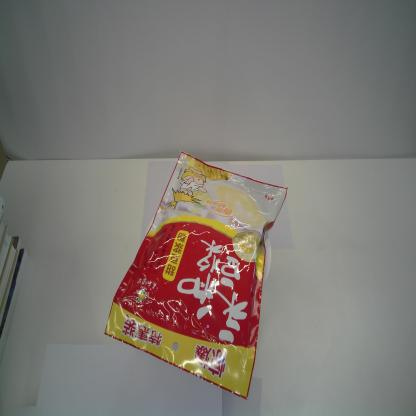Instant Drink: (103, 151, 288, 401)
